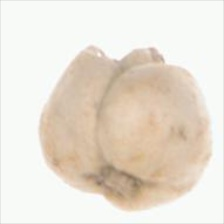L3: (80, 44, 178, 69)
L4: (39, 46, 212, 212)
